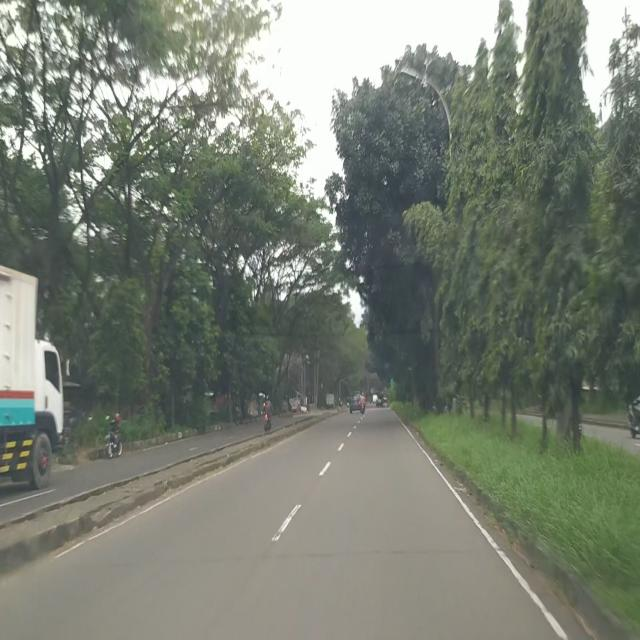Sewer Cover: (268, 542, 493, 562)
